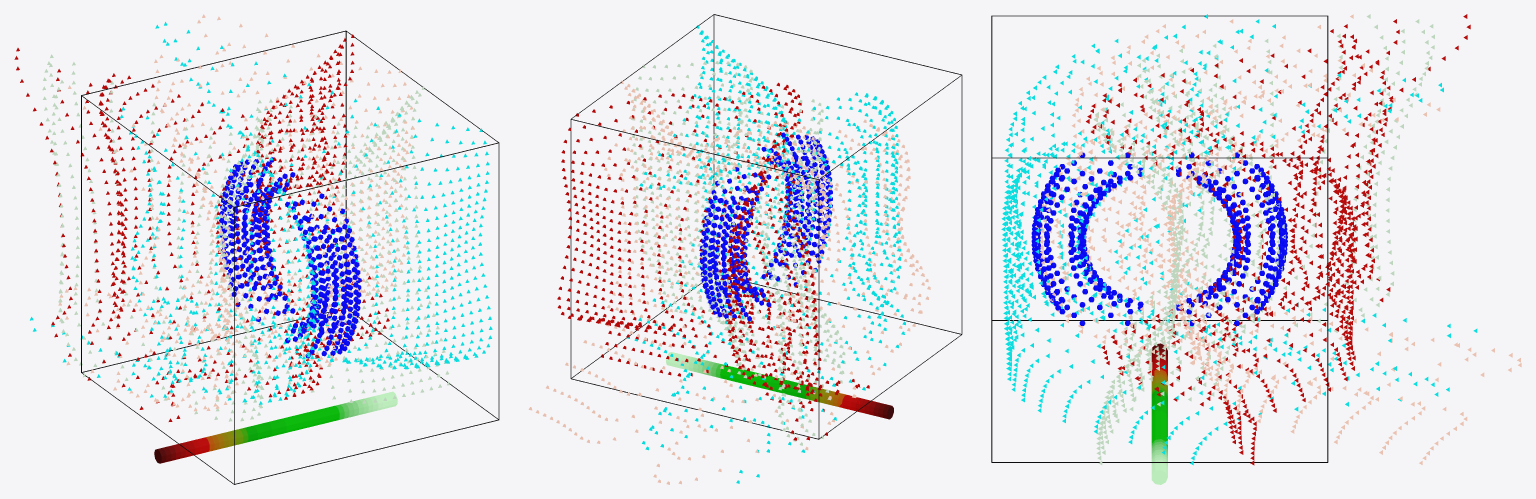
The model's file is 4levels.glb.
3 renders of one model, left to right at view 1: azimuth 30°, elevation 25°; view 2: azimuth 150°, elevation 25°; view 3: azimuth 270°, elevation 25°, orthographic. The views are drawn at different scales.
Bounding box in the file's own units: 2.03 × 2.26 × 3.16.
